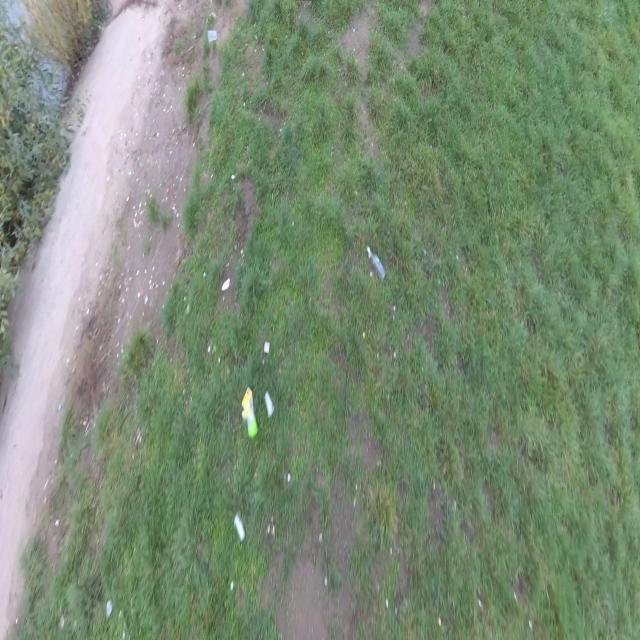rubbish: (241, 386, 259, 437), (366, 244, 387, 283), (232, 513, 246, 543), (264, 388, 276, 418)
